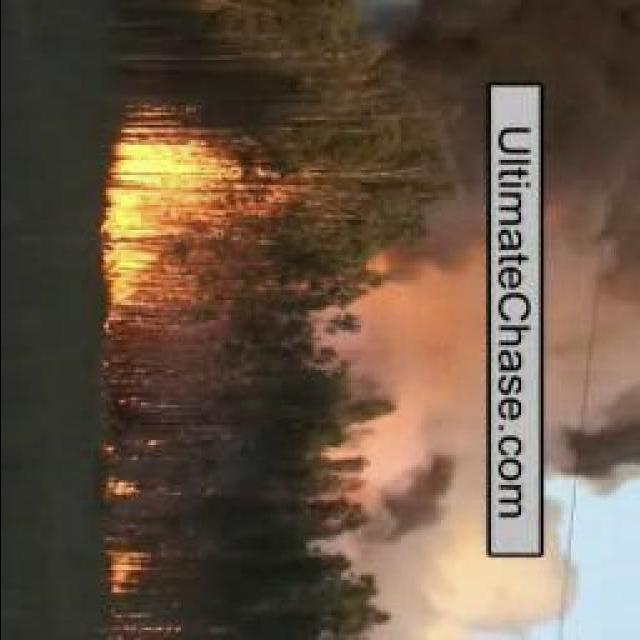Fire: (103, 132, 244, 323), (103, 548, 148, 596), (108, 473, 138, 508)
